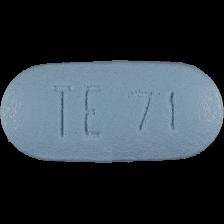68258-7153: (0, 0, 224, 224)
